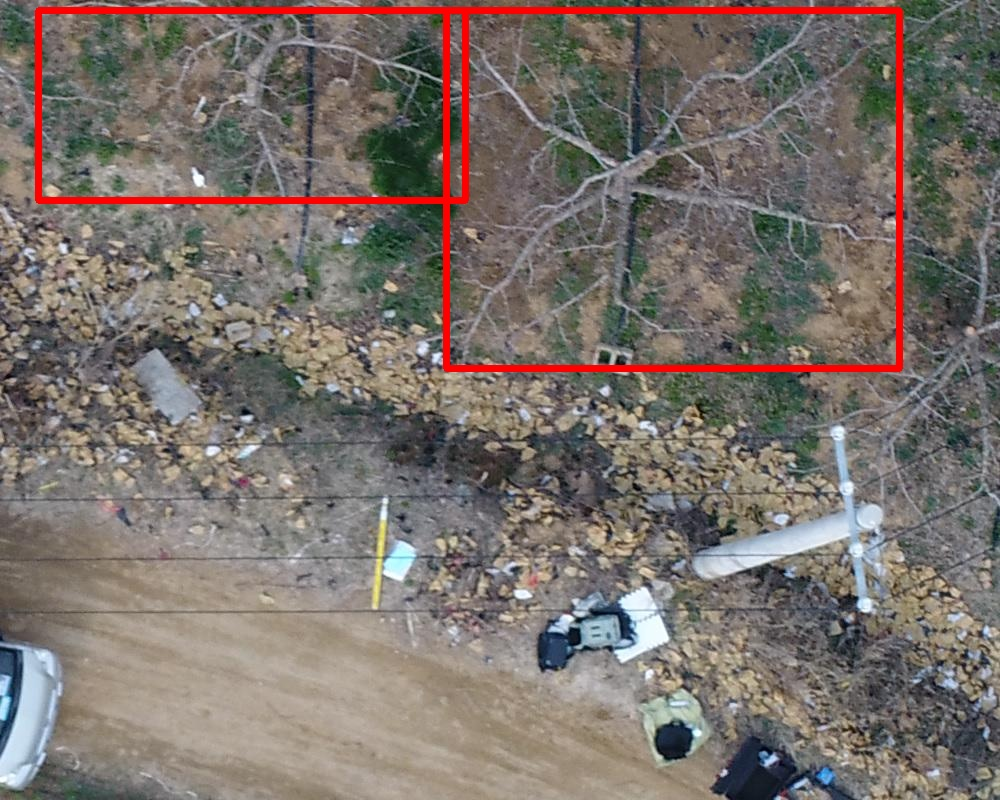apple: (446, 10, 899, 368), (38, 10, 465, 200)
